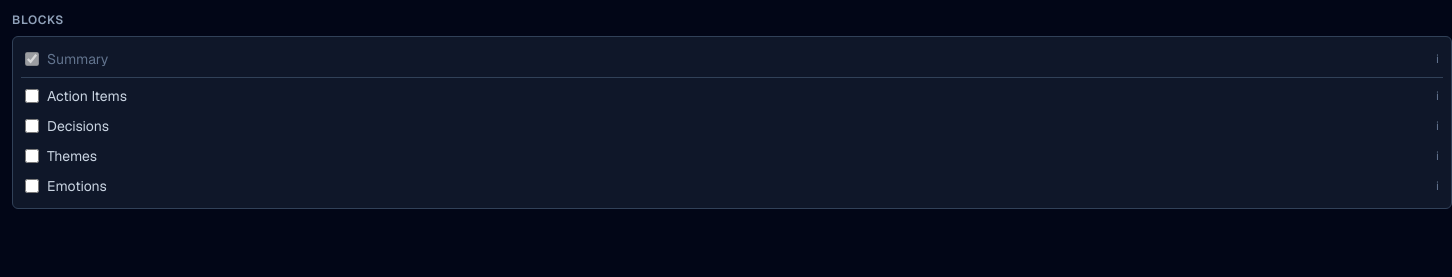
BlockSelector › info button toggles expanded info panel
Check: the text "Summary" is shown, box [47,50,108,68]
// Click the first info button (for Summary)
Click the button titled "Show block info" in the row of "Summary" at {"x": 1438, "y": 59}, box [1436,51,1439,67]
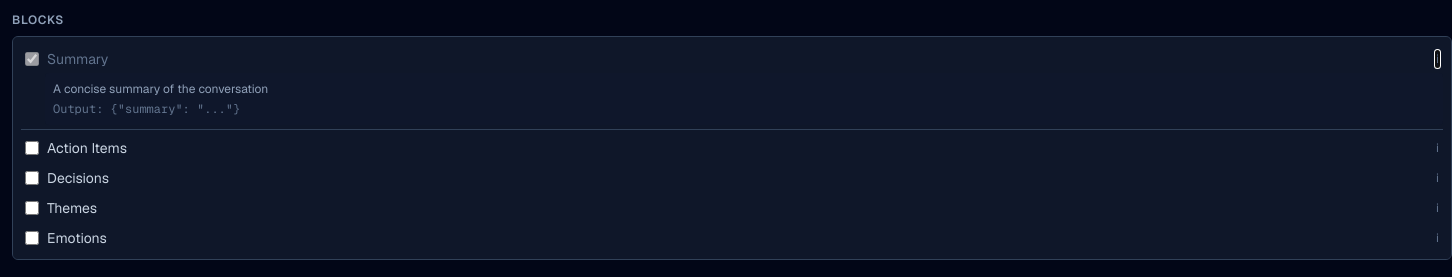
Check: the text "A concise summary of the conversation" is shown, box [53,81,268,97]
// Click again to collapse
Click the 1st button titled "Show block info" at {"x": 1438, "y": 59}, box [1436,51,1439,67]
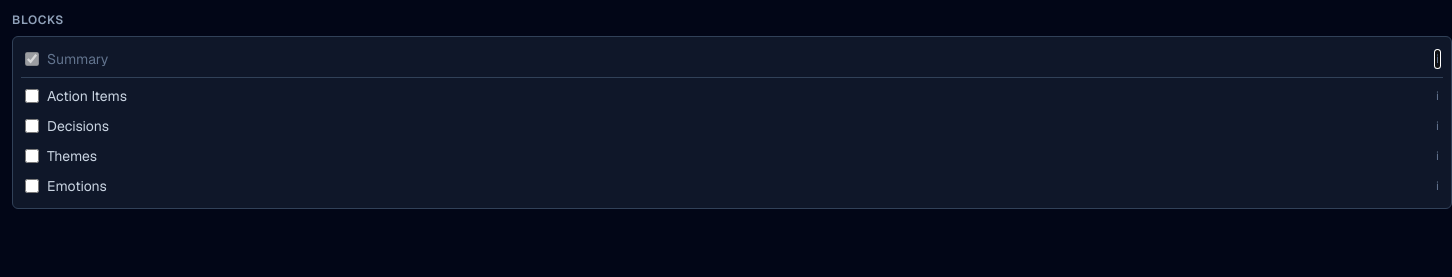
Check: the text "A concise summary of the conversation" is gone
